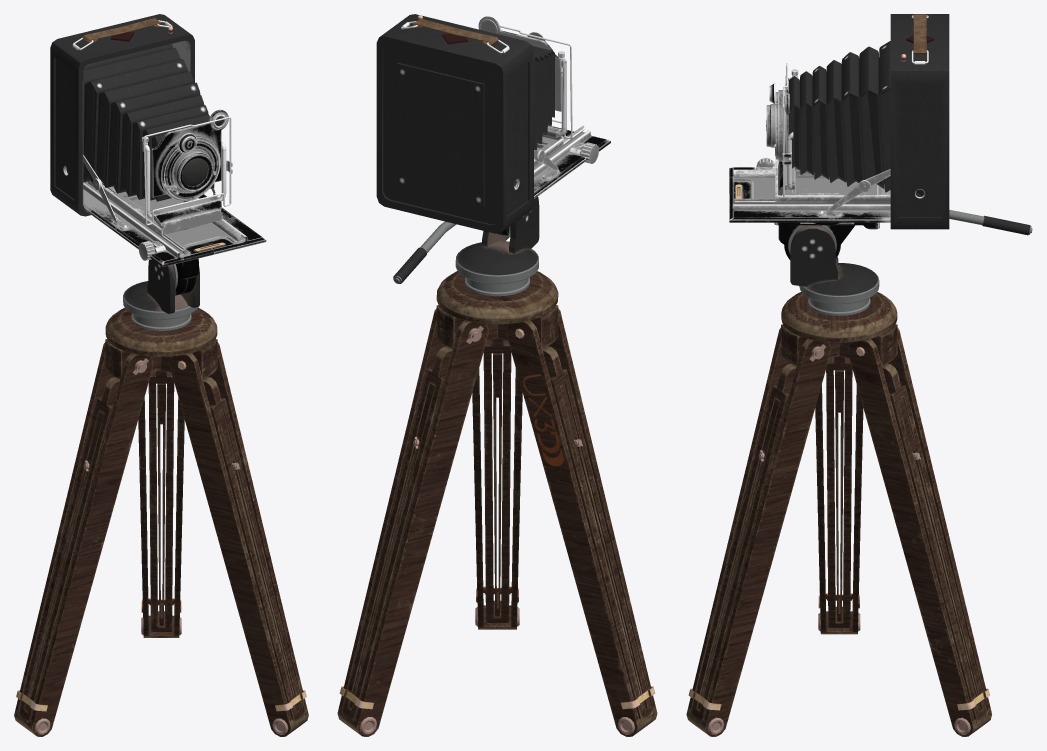
File: AntiqueCamera.glb
The picture shows the model from 3 angles, left to right: view 1: azimuth 30°, elevation 25°; view 2: azimuth 150°, elevation 25°; view 3: azimuth 270°, elevation 25°; orthographic projection. The views are drawn at different scales.
Visible parts, largest first — view 1: tripod, camera; view 2: tripod, camera; view 3: tripod, camera.
Boxes of the visible parts, x1,y1,x2,y2 form: tripod: [14, 258, 308, 736]; camera: [50, 14, 266, 266]; tripod: [337, 196, 657, 736]; camera: [376, 14, 610, 233]; tripod: [686, 210, 1032, 736]; camera: [729, 14, 949, 229].
Size of the model in its own units: 2.6 by 7.21 by 3.39.
2 materials, 2 textured.
